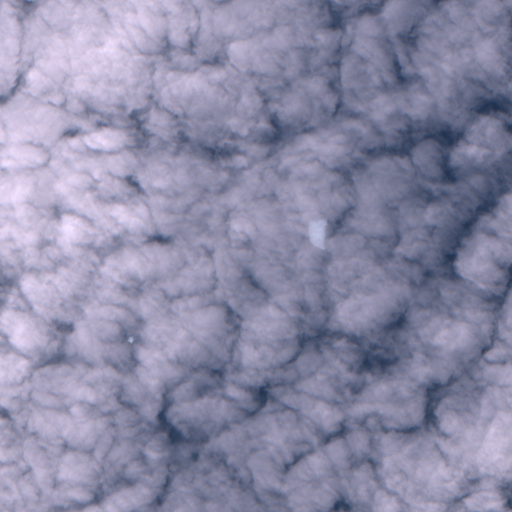Iceberg: (310, 220, 324, 248), (128, 337, 132, 342)
